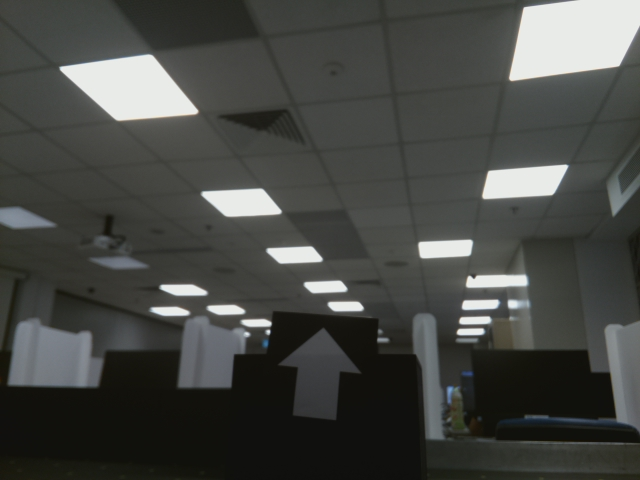up: (281, 324, 373, 432)
